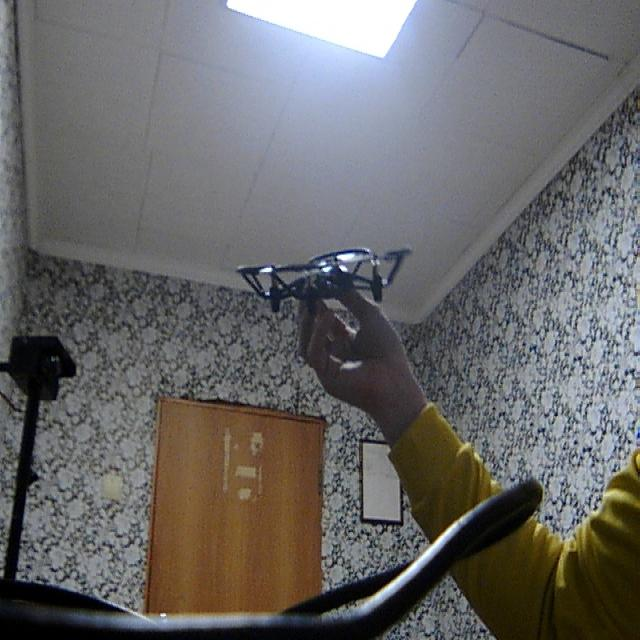drone: (236, 226, 413, 320)
